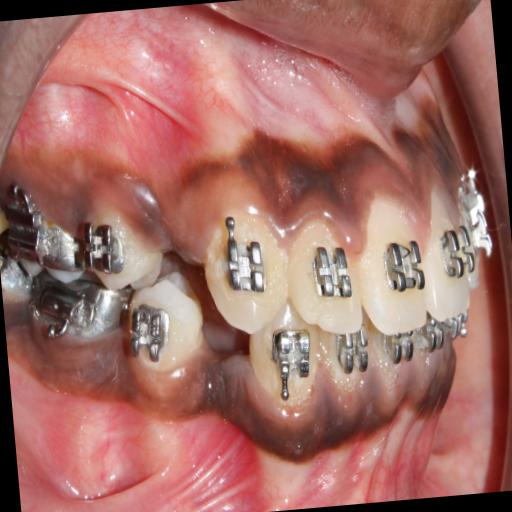correct_brace: (78, 208, 168, 300), (215, 230, 274, 307), (377, 232, 428, 302), (308, 238, 356, 312)
incorrect_brace: (283, 216, 368, 343), (79, 224, 129, 278)
